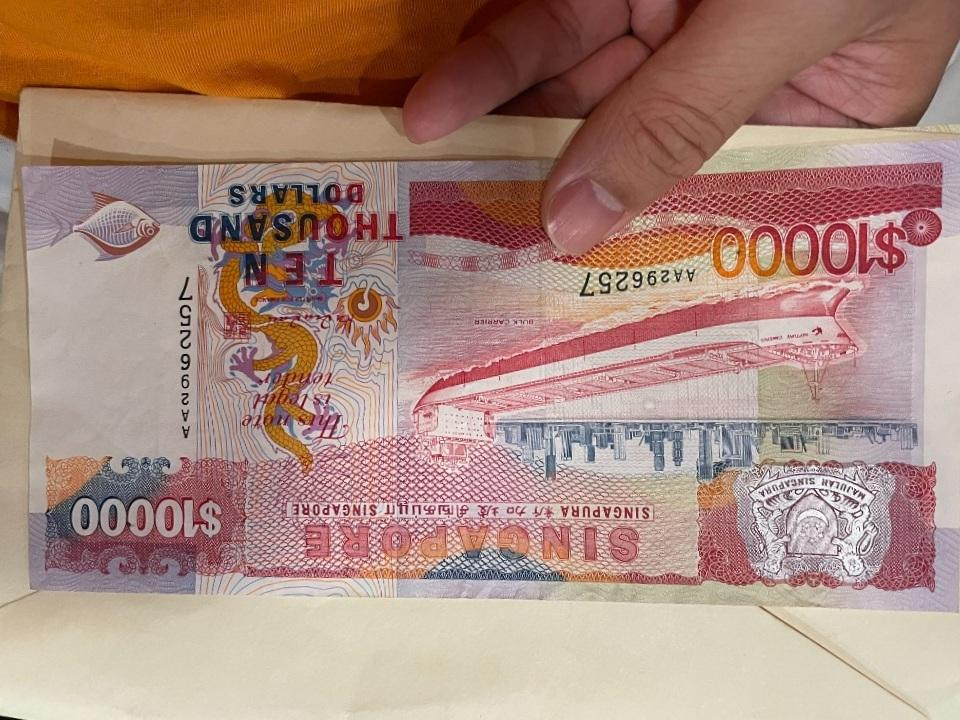10000SingaporeDollar: (28, 167, 960, 587)
